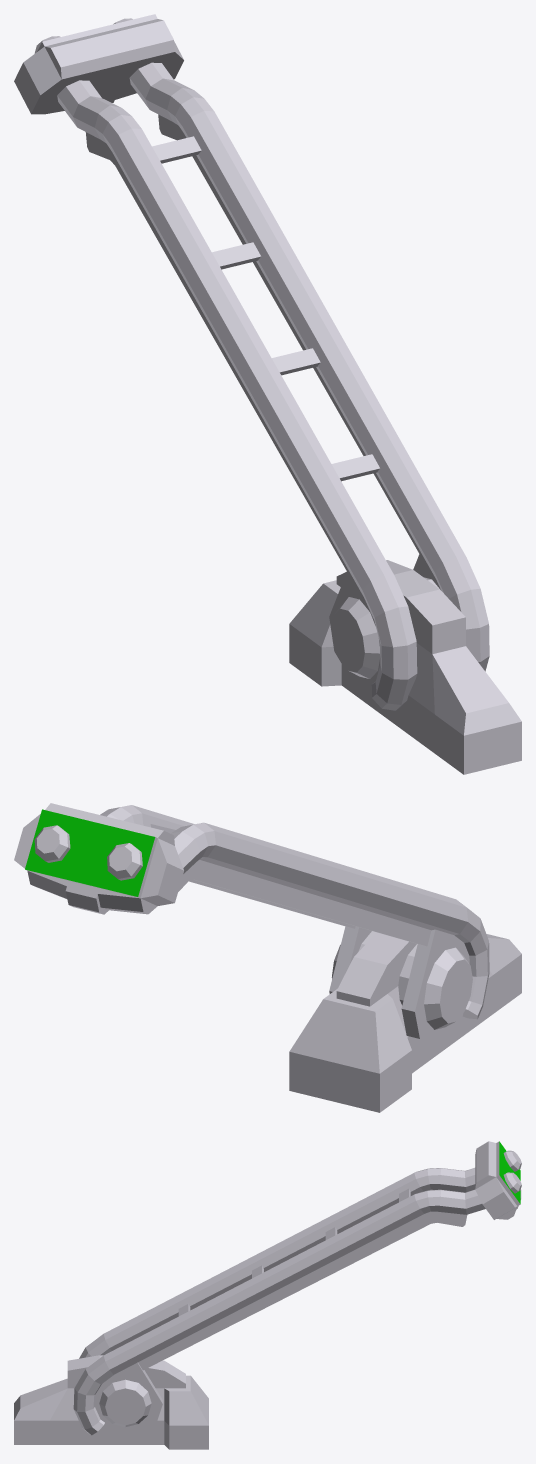
Rendered from part.strut.ladder.fbx.
3 renders of one model, top to bottom at view 1: azimuth 30°, elevation 25°; view 2: azimuth 150°, elevation 25°; view 3: azimuth 270°, elevation 25°, orthographic. The views are drawn at different scales.
Visible parts, largest first — view 1: part.strut.ladder; view 2: part.strut.ladder; view 3: part.strut.ladder.
Part boxes in pixels (x1,y1,x2,y2): part.strut.ladder: (14,14,521,774); part.strut.ladder: (14,803,521,1112); part.strut.ladder: (14,1141,521,1449).
Size of the model in its own units: 1.07 by 3.2 by 5.3.
